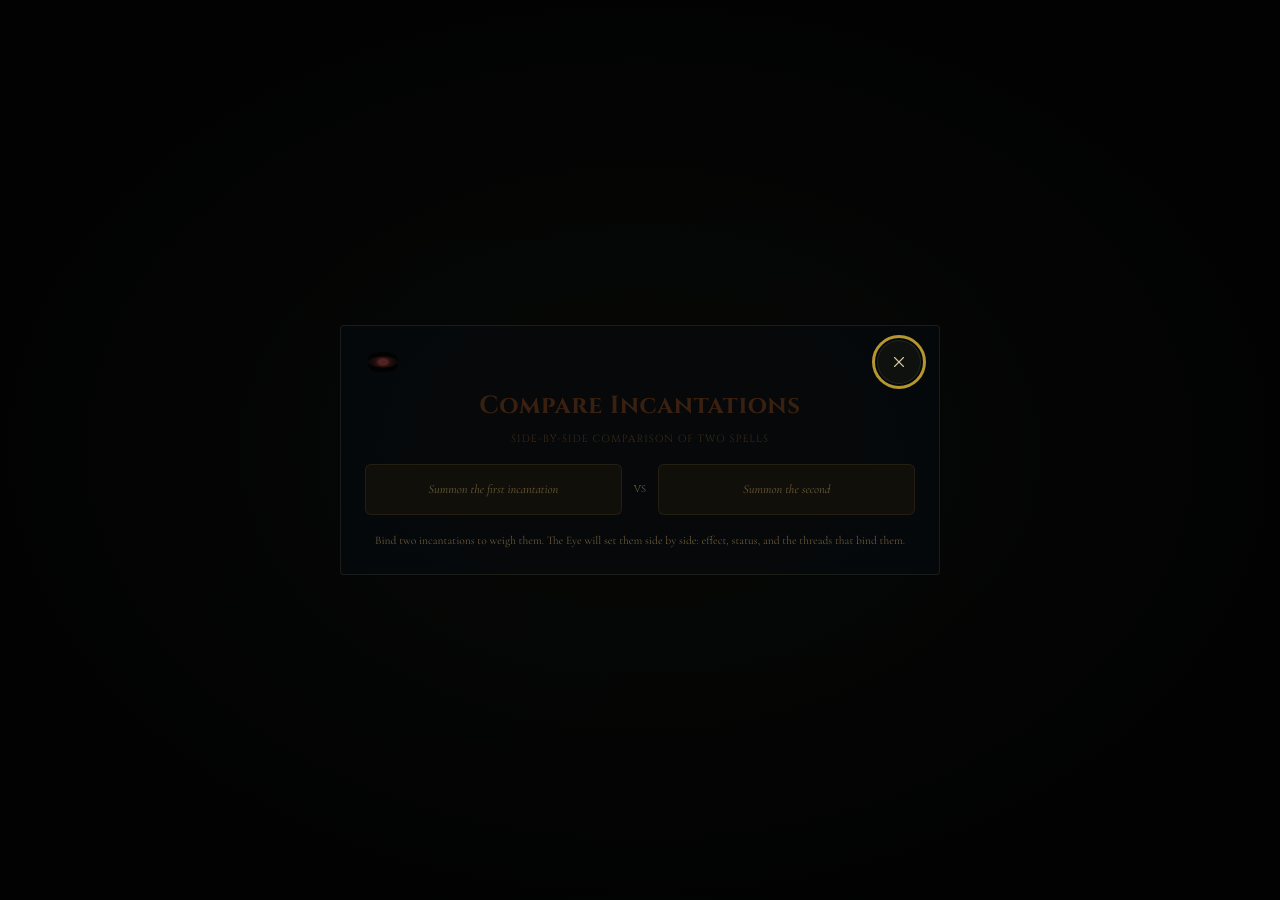
CompareSpellsModal › shows empty state when picker search returns no results
Click the button "Summon the first incantation": click(493, 490) [365,464,622,515]
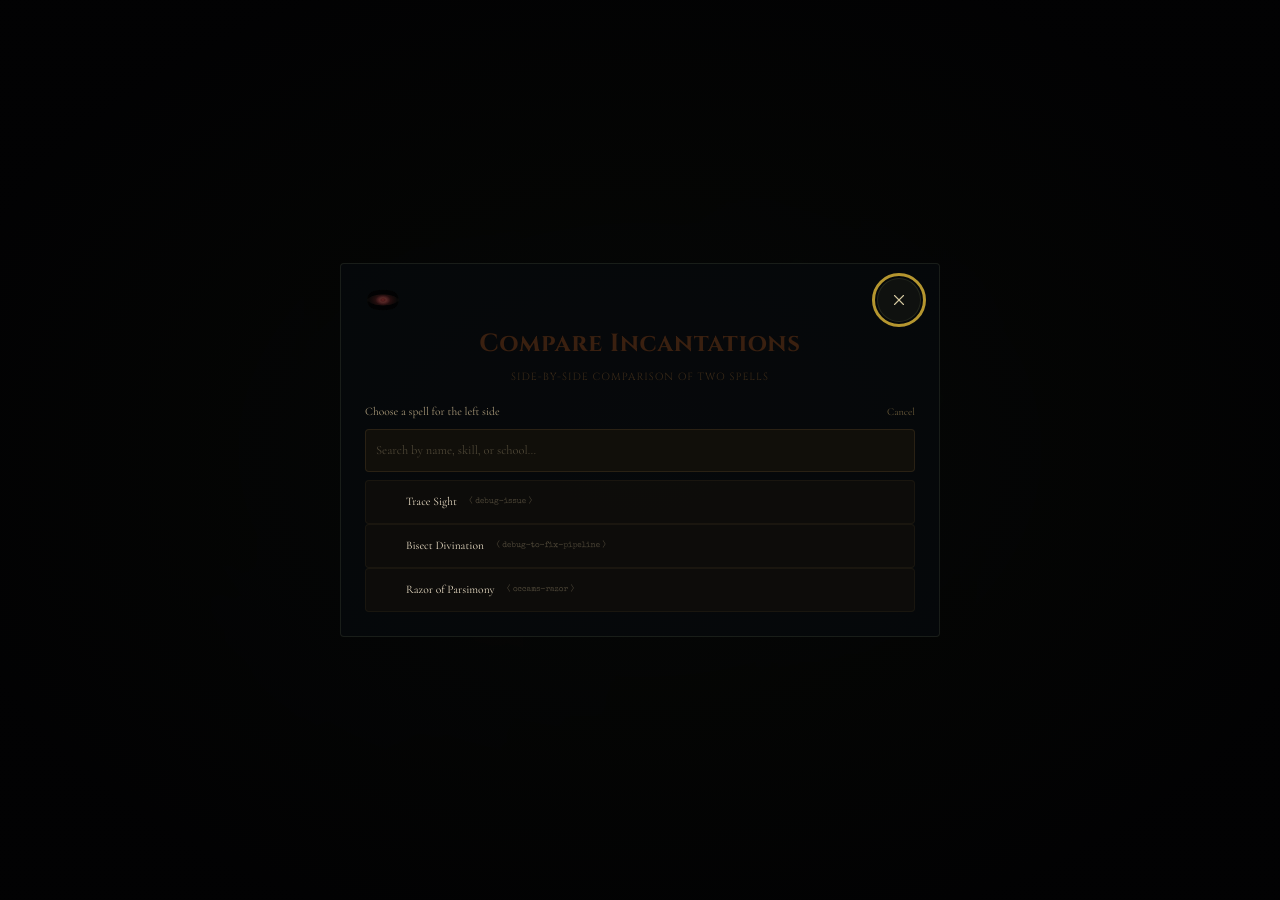
In the field named "Search spells to compare": (640, 451) [365,429,915,472], type "zzznotfound"
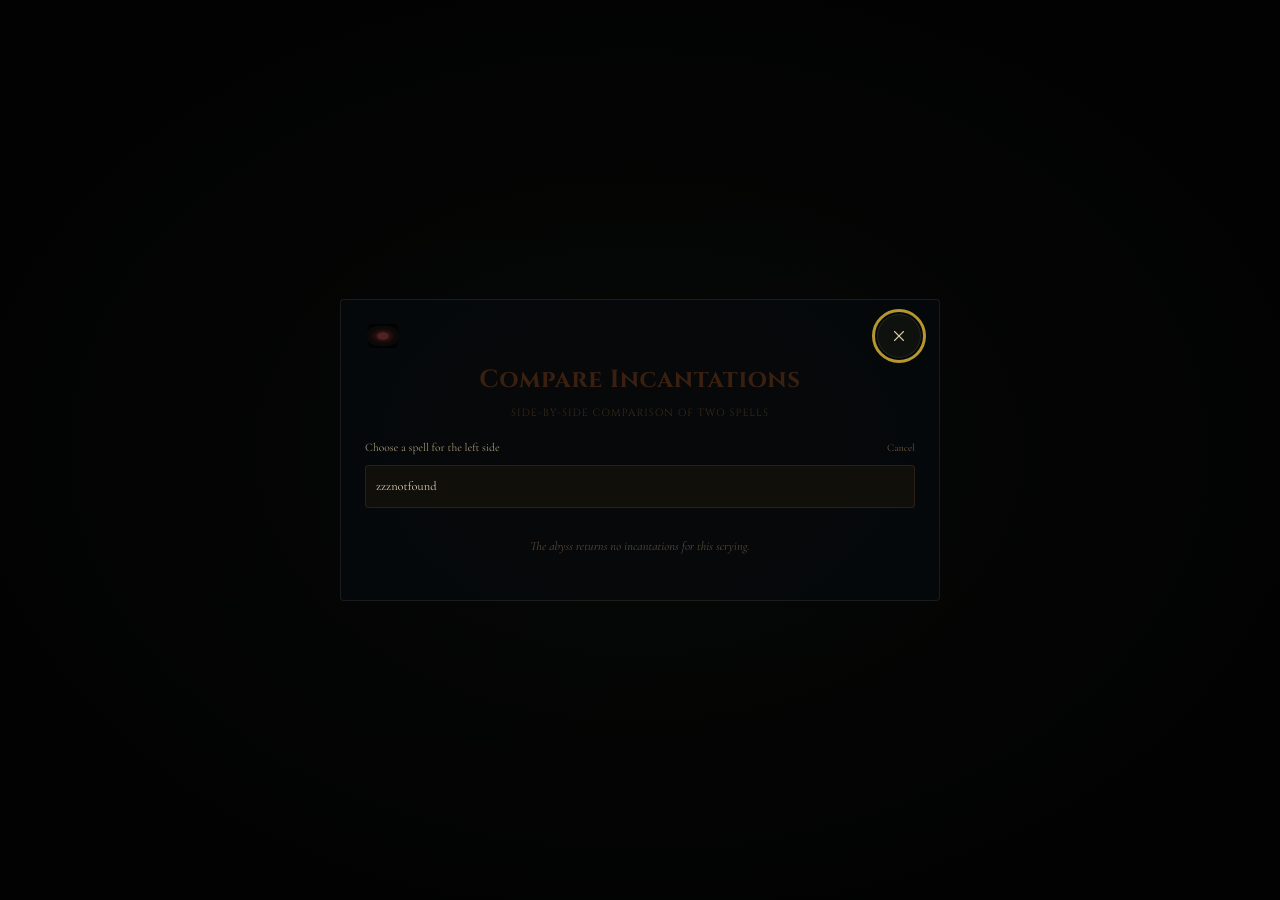
Result: the text "The abyss returns no incantations for this scrying." is shown at [530,538,750,554]
